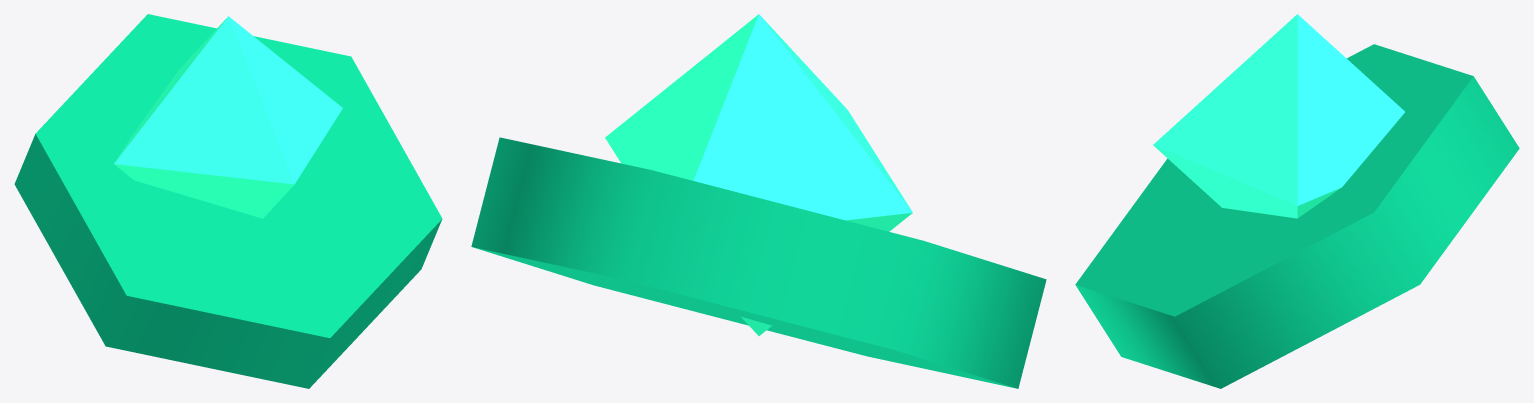
File: boxem_coin_gem.glb
3 renders of one model, left to right at view 1: azimuth 30°, elevation 25°; view 2: azimuth 150°, elevation 25°; view 3: azimuth 270°, elevation 25°, orthographic. The views are drawn at different scales.
Parts seen in each view (by area): view 1: CoinGem; view 2: CoinGem; view 3: CoinGem.
Boxes of the visible parts, left/top/right/bottom form: CoinGem: left=14, top=14, right=442, bottom=388; CoinGem: left=471, top=14, right=1046, bottom=388; CoinGem: left=1075, top=14, right=1519, bottom=388.
Size of the model in its own units: 0.6062 by 0.5756 by 0.6762.
